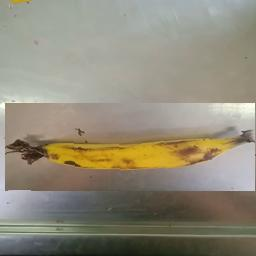Banana Semifresh: (5, 104, 255, 192)
